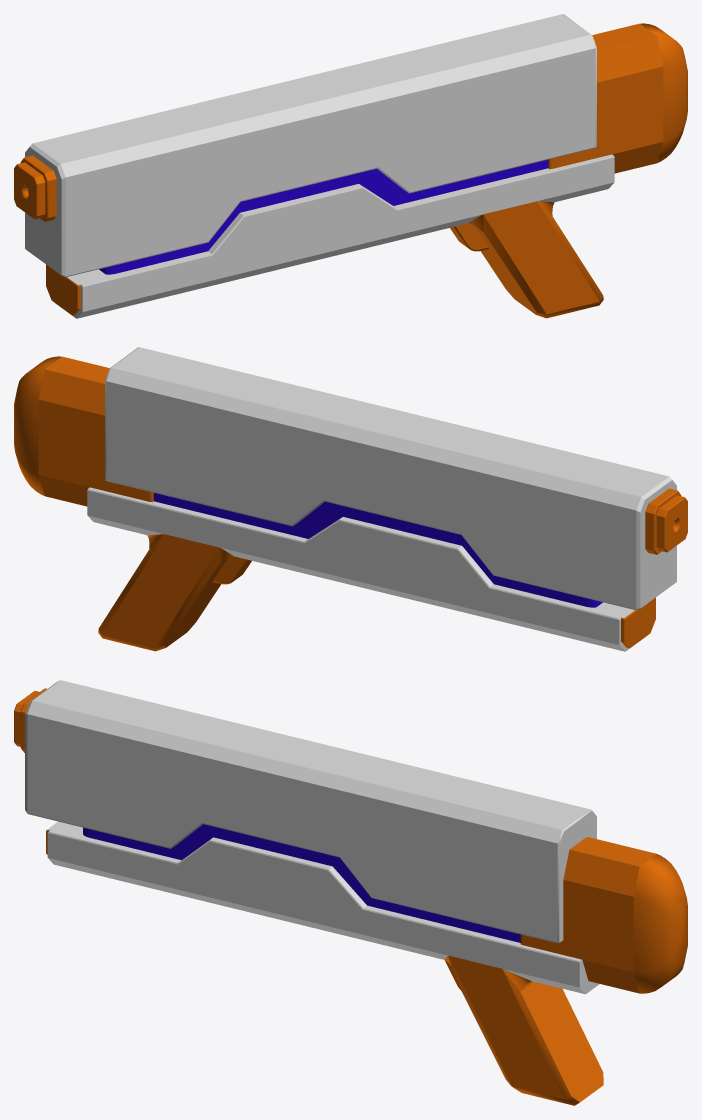
3 views of the same model, one above another, from view 1: azimuth 30°, elevation 25°; view 2: azimuth 150°, elevation 25°; view 3: azimuth 330°, elevation 25° (orthographic).
Parts seen in each view (by area): view 1: gunA; view 2: gunA; view 3: gunA.
Boxes of the visible parts, box(x1,y1,x2,y2) form: gunA: box(14, 14, 687, 318); gunA: box(14, 347, 687, 651); gunA: box(14, 680, 687, 1105).
Bounding box in the file's own units: 2 × 0.7969 × 0.201.
